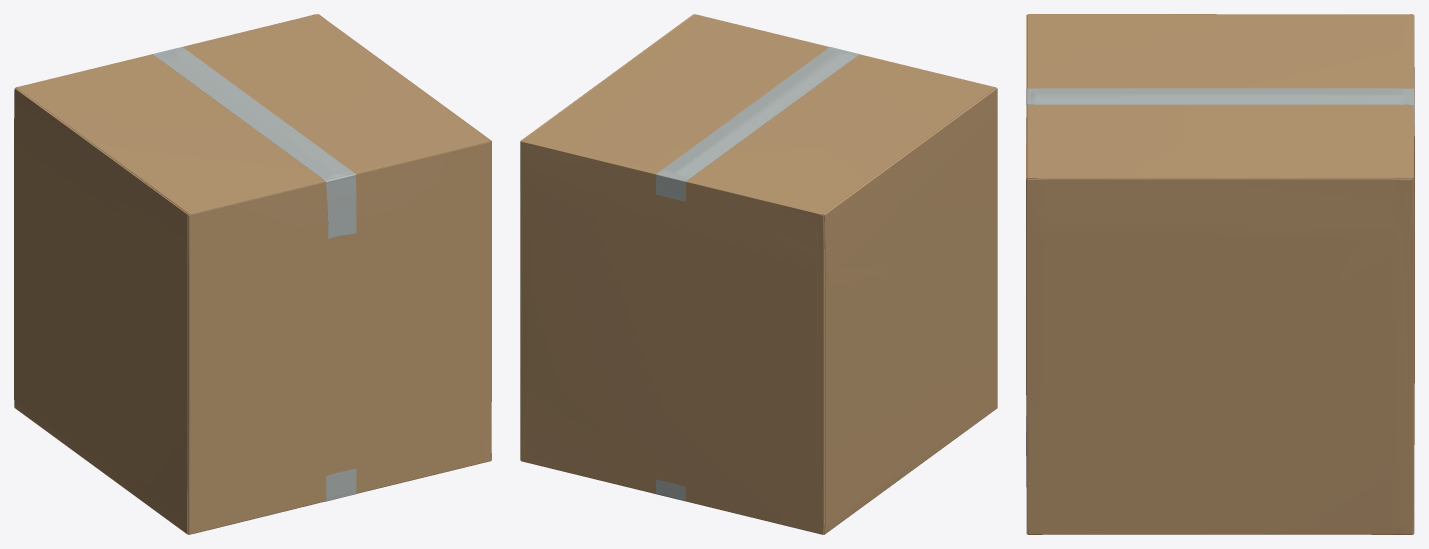
The picture shows the model from 3 angles, left to right: view 1: azimuth 30°, elevation 25°; view 2: azimuth 150°, elevation 25°; view 3: azimuth 270°, elevation 25°; orthographic projection. The views are drawn at different scales.
Size of the model in its own units: 0.6105 by 0.6151 by 0.6049.
